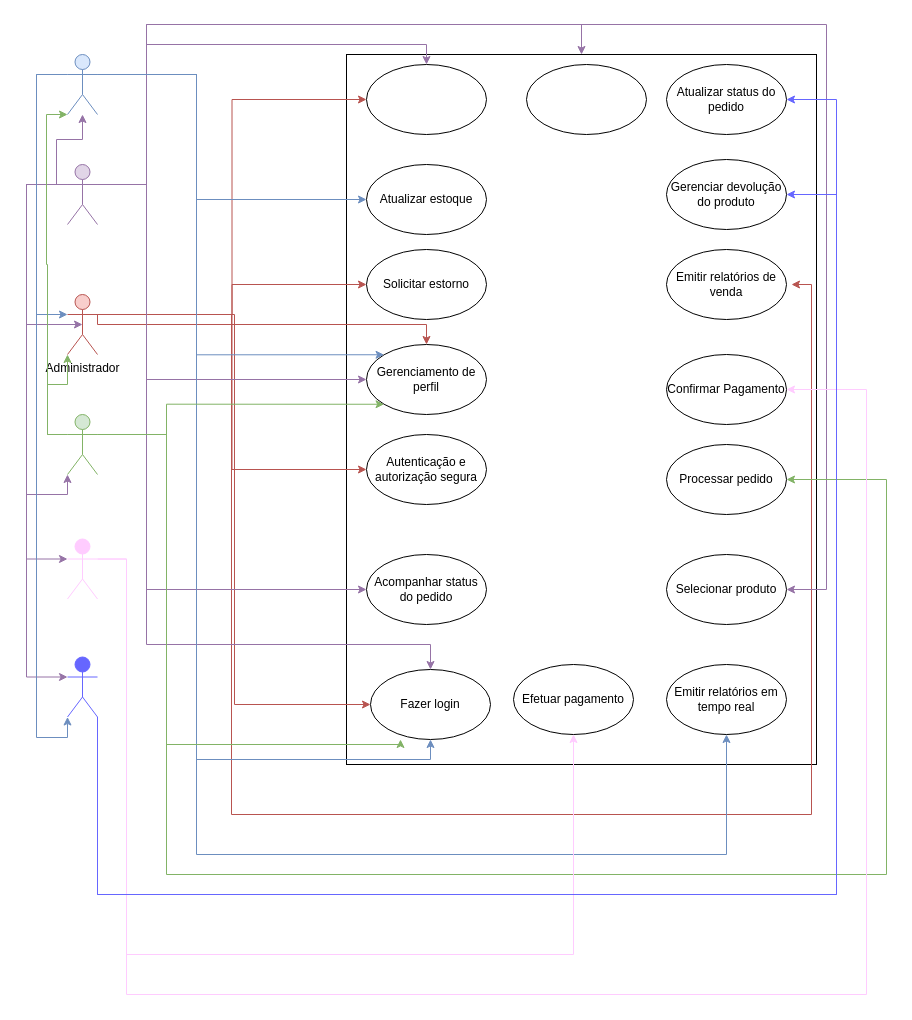
Some shapes in this 912 by 1020 pixel diagram are drawn without their labels. The shapes that lost their labels are listed below. From the top down, each one's centre as x and y in pixels, then its label:
At pixel 82 84: "Gerente de estoque".
At pixel 426 99: "Cadastro de clientes".
At pixel 586 99: "Visualizar carrinho de compras".
At pixel 82 194: "Cliente".
At pixel 82 444: "Vendedor".
At pixel 82 568: "Sistema de Pagamentos".
At pixel 82 686: "Sistema de entrega/logística".
